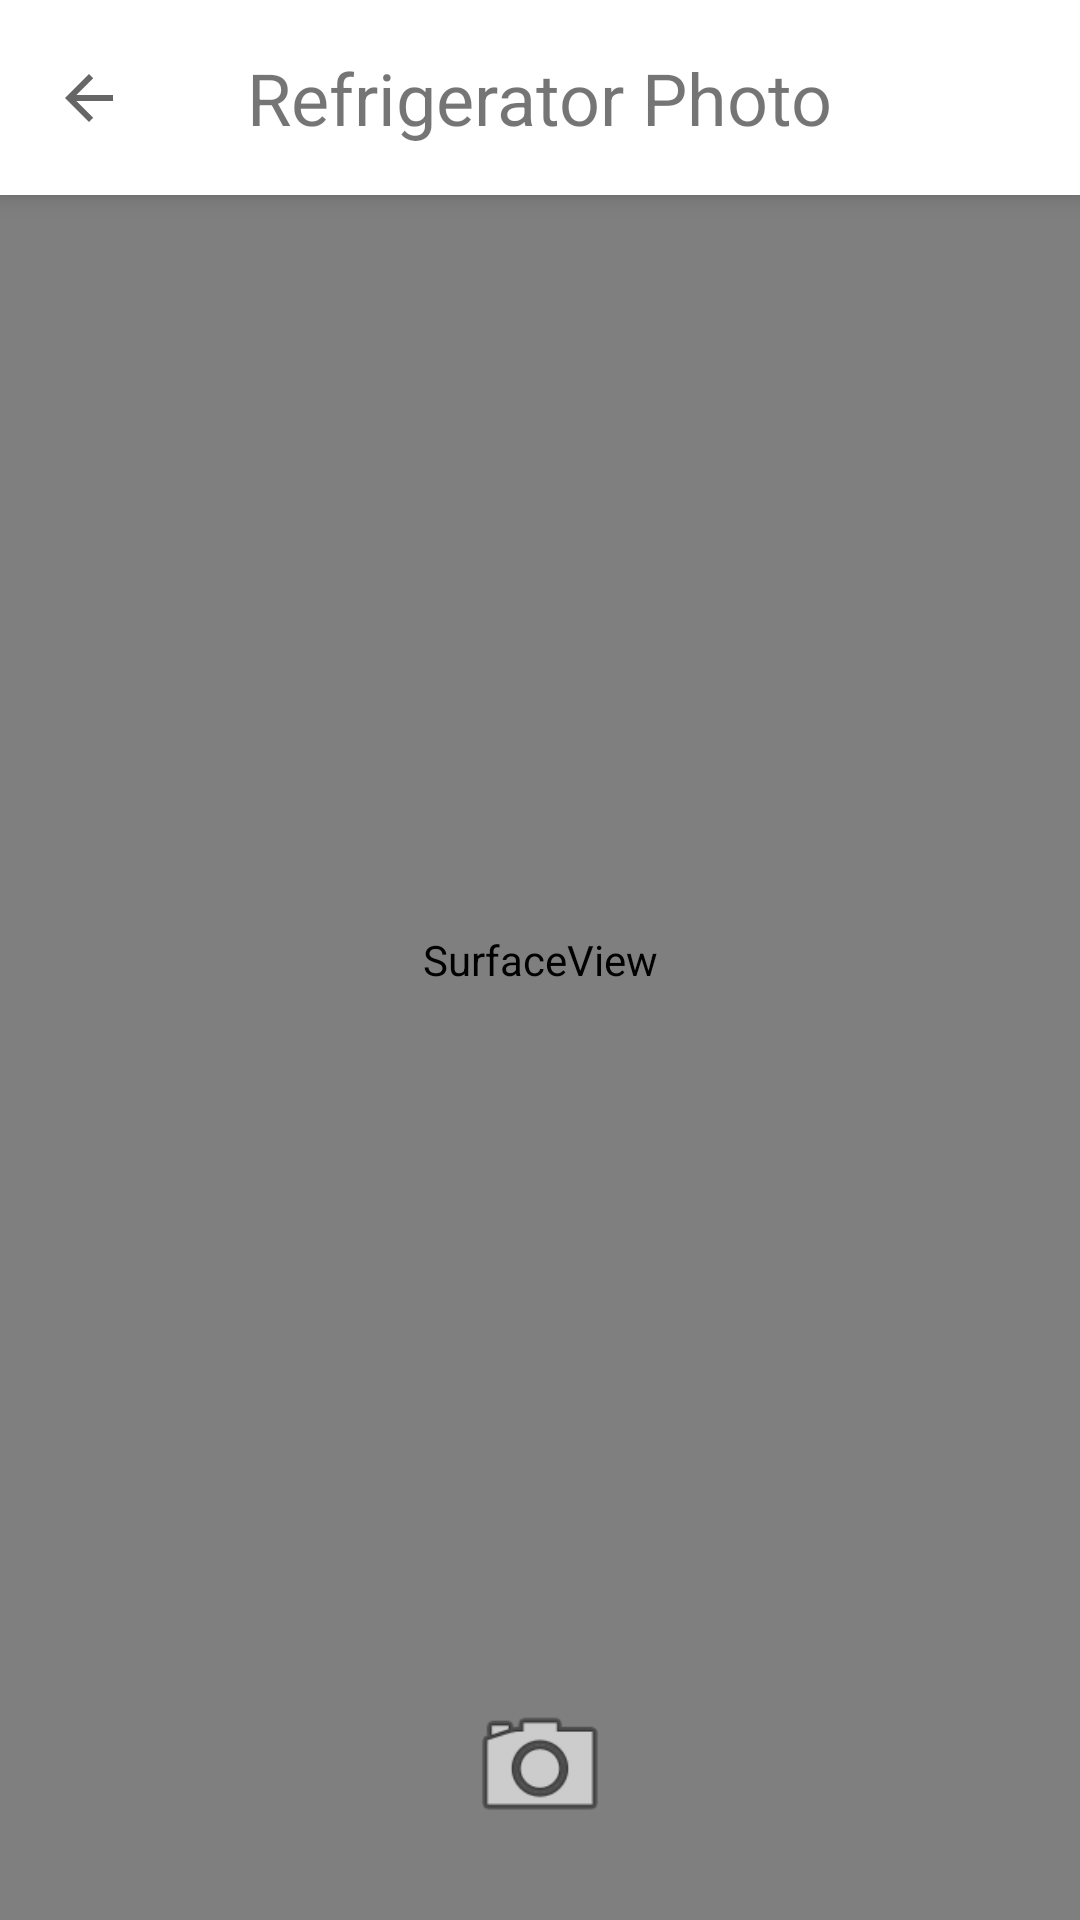

Point at icon controls on the screen. Image size 1080px x 1920px, points as (x,y).
camera: (539,1763)
